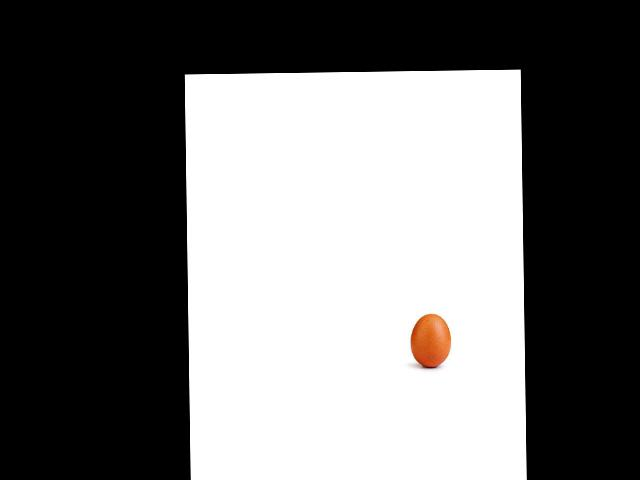egg: (410, 314, 450, 367)
